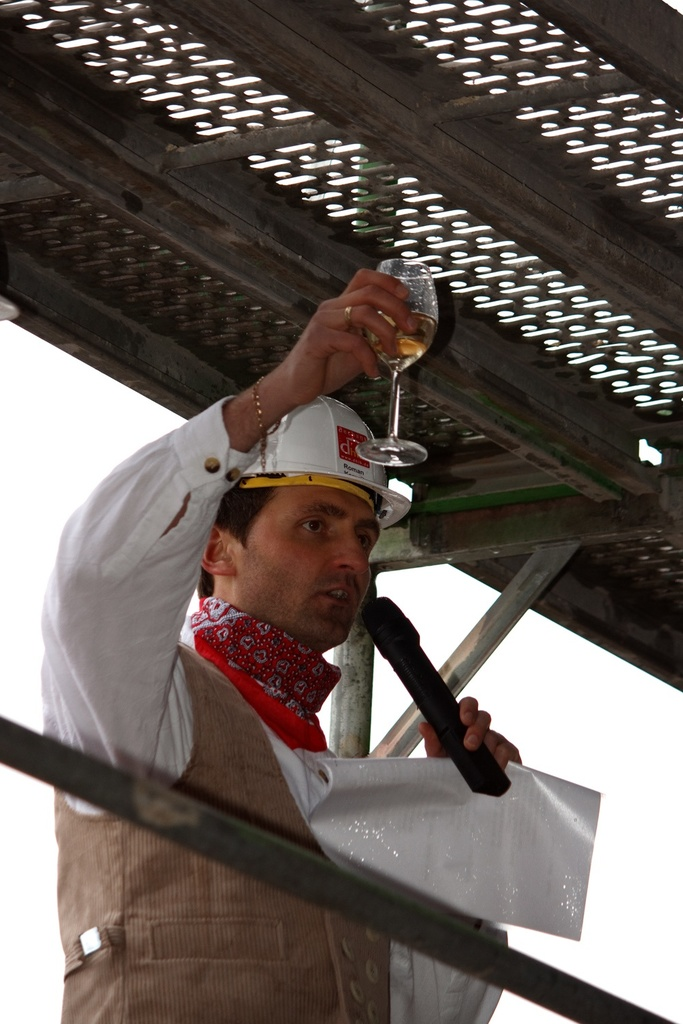Human_hand: (255, 264, 430, 409), (419, 696, 526, 777)
